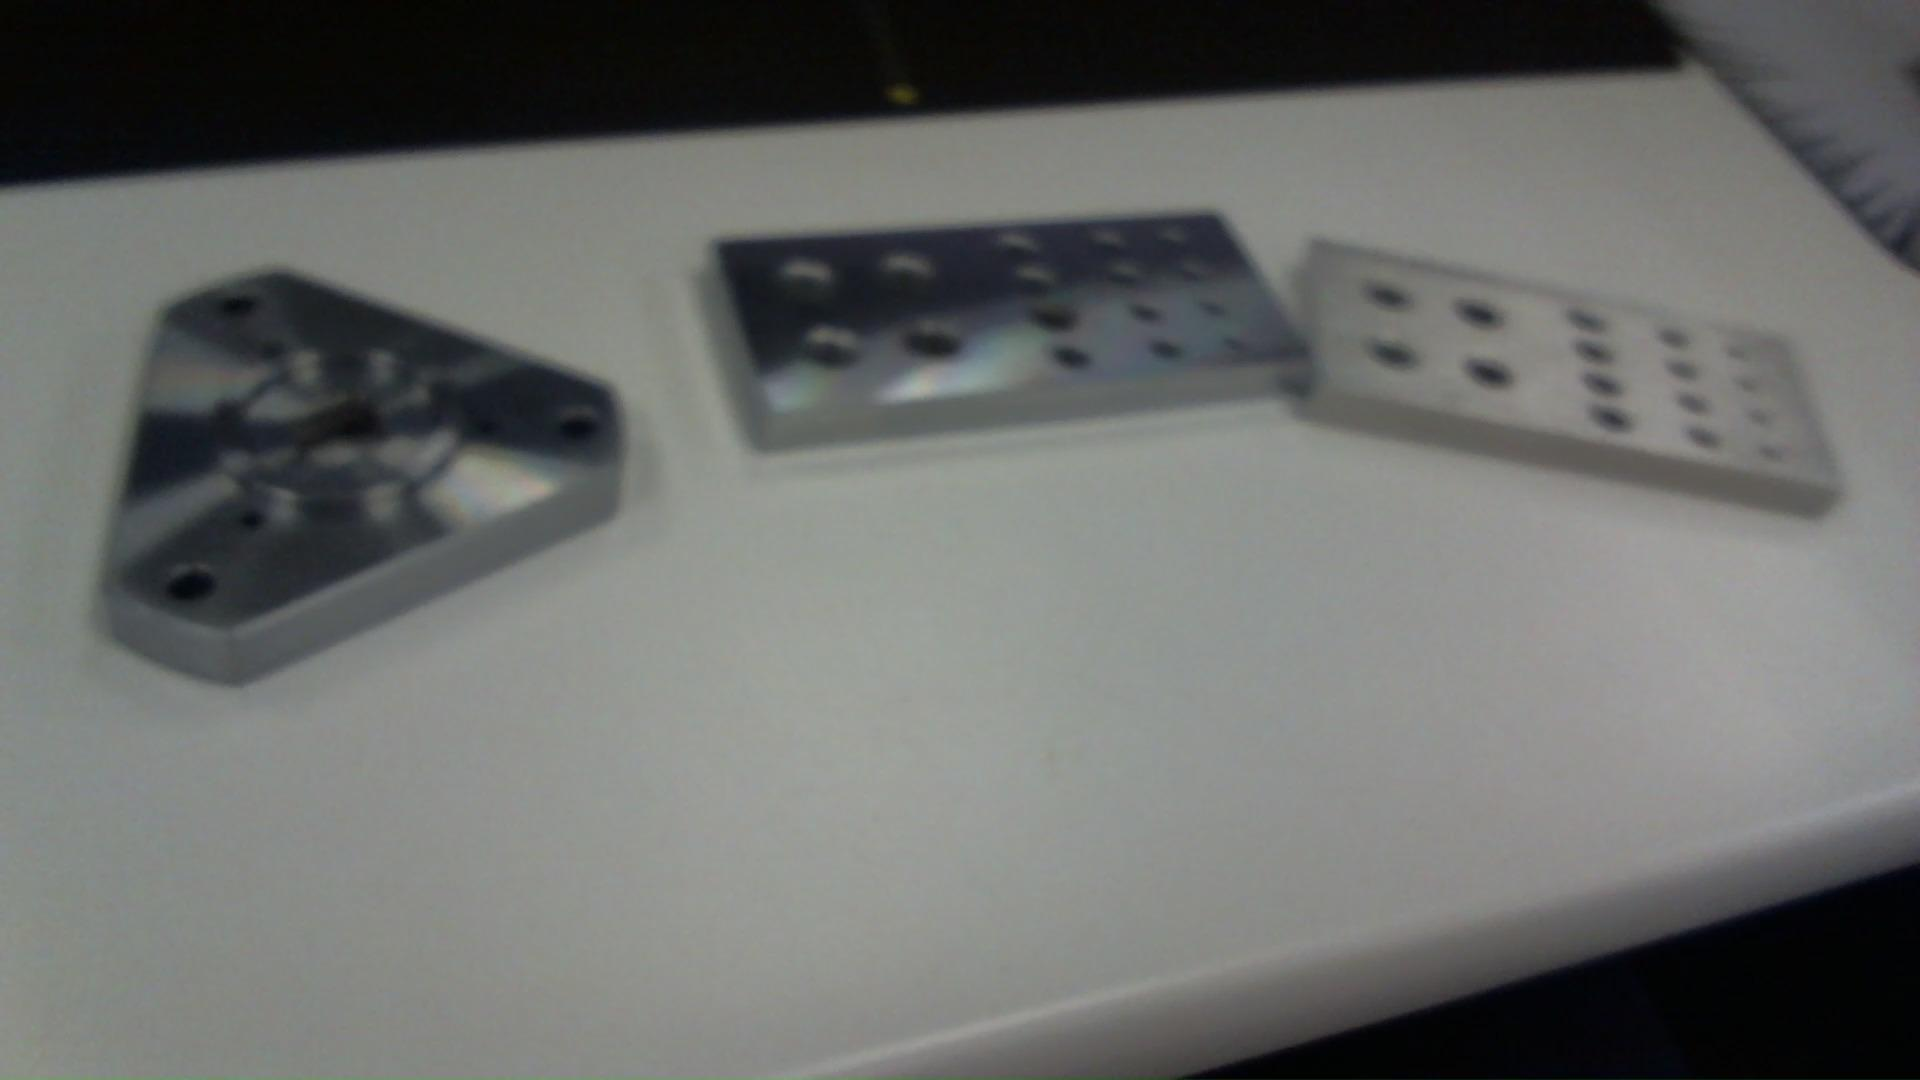hole: (166, 553, 223, 618), (543, 404, 609, 455), (799, 327, 858, 378), (874, 245, 936, 294), (1367, 330, 1425, 380), (909, 324, 967, 371), (782, 255, 844, 293), (1452, 291, 1507, 334), (1030, 293, 1081, 336), (1458, 349, 1516, 388), (1039, 340, 1098, 377), (206, 287, 262, 324), (1366, 277, 1416, 316), (1588, 400, 1633, 436), (993, 232, 1043, 265), (1582, 368, 1631, 401), (1007, 266, 1052, 301), (1105, 258, 1142, 295), (1139, 334, 1180, 364), (1575, 336, 1614, 365), (1125, 294, 1162, 324), (1088, 224, 1127, 251), (1573, 307, 1607, 334)
